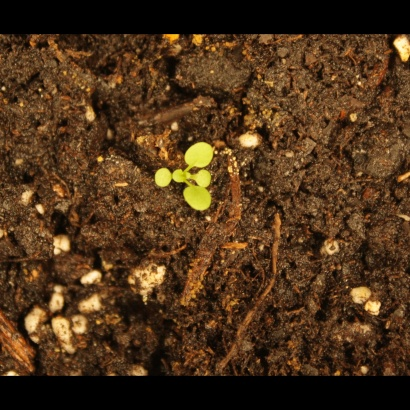leaf: (183, 185, 214, 214), (184, 141, 216, 169), (151, 166, 174, 189), (193, 168, 216, 191), (170, 165, 193, 188)
